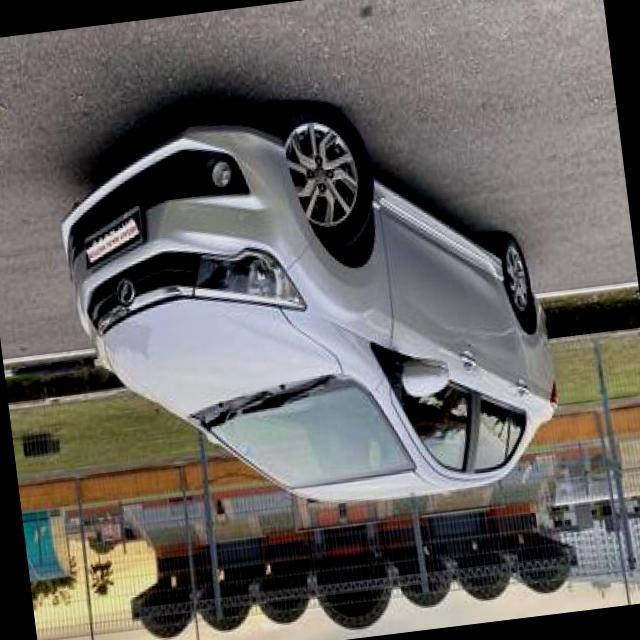PeroduaBezza: (48, 74, 570, 538)
